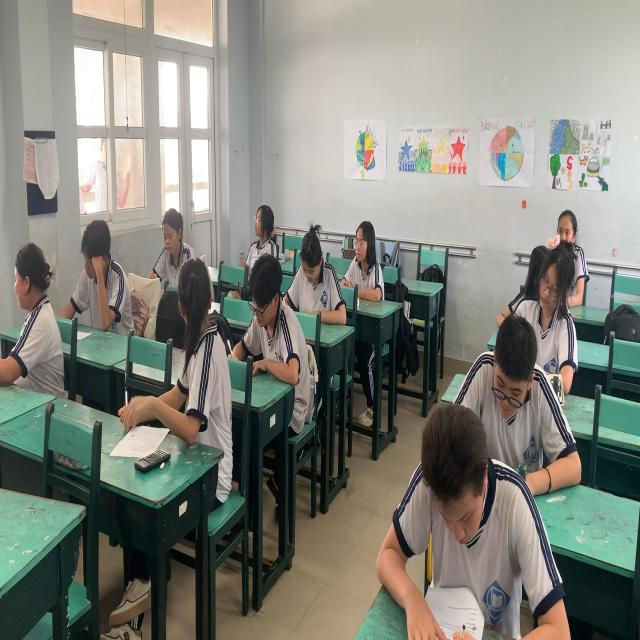cheating: (150, 262, 231, 455), (0, 245, 64, 403)
not_cheating: (379, 407, 509, 638), (462, 314, 558, 494), (511, 245, 577, 396), (244, 258, 299, 389), (290, 217, 346, 331), (76, 223, 128, 334), (550, 200, 587, 313), (338, 219, 383, 306), (235, 200, 286, 264), (153, 206, 190, 268)
